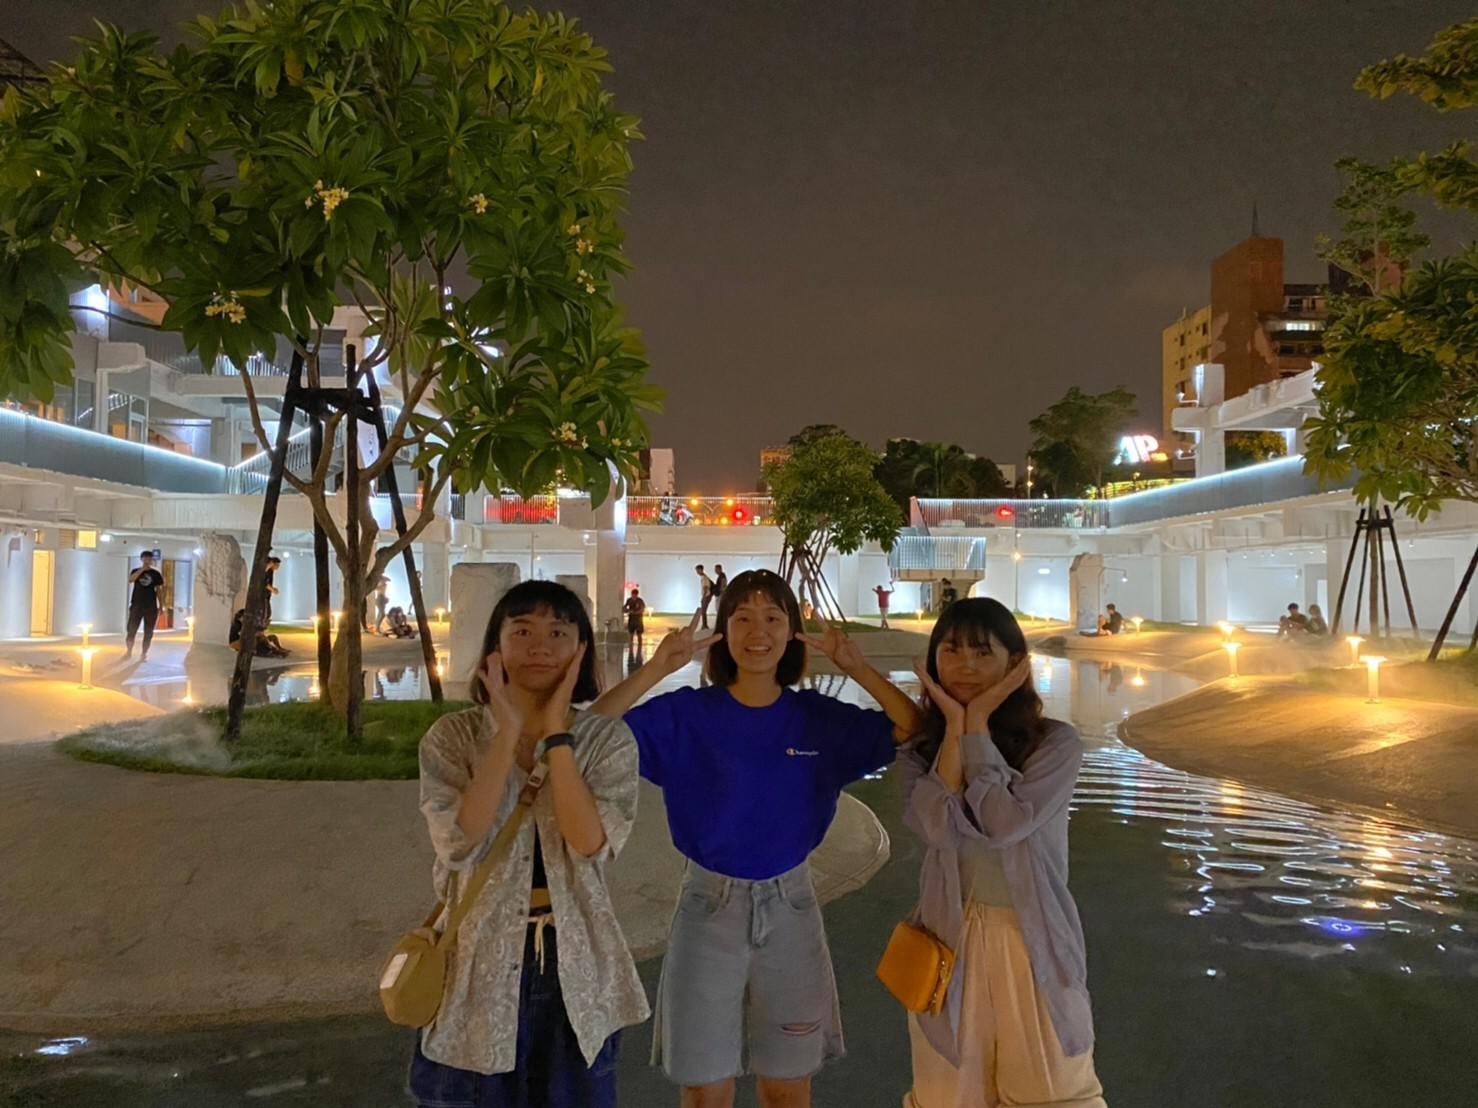people: (448, 575, 627, 1108), (925, 605, 1108, 1108), (675, 569, 831, 1108), (121, 548, 158, 659), (608, 592, 648, 659), (686, 557, 715, 621), (1269, 598, 1308, 644), (931, 567, 961, 621), (252, 555, 277, 621), (371, 575, 394, 634), (871, 584, 902, 627), (1304, 600, 1336, 638), (1090, 600, 1121, 640), (711, 561, 733, 609)
